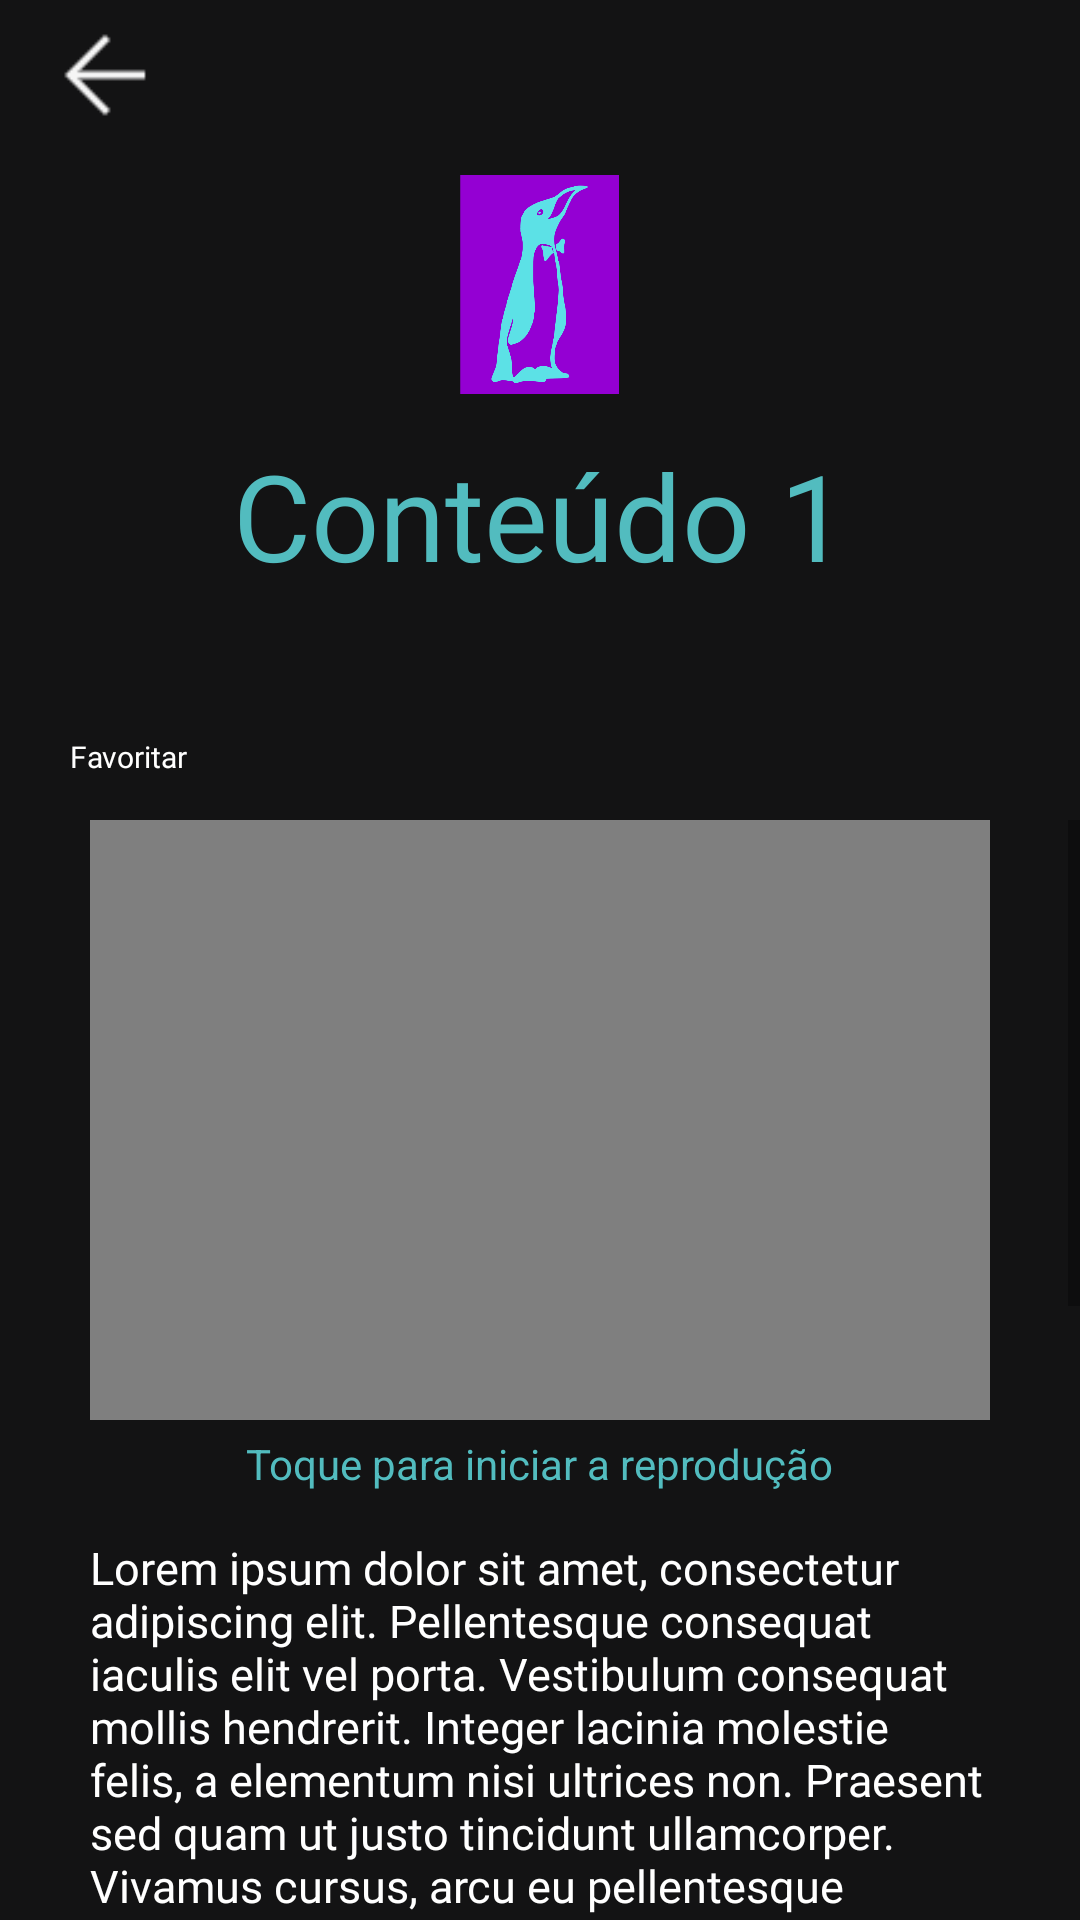

Icon click points for this 1080px×1920px phone screenshot, format (x,y):
back arrow: (105,75)
